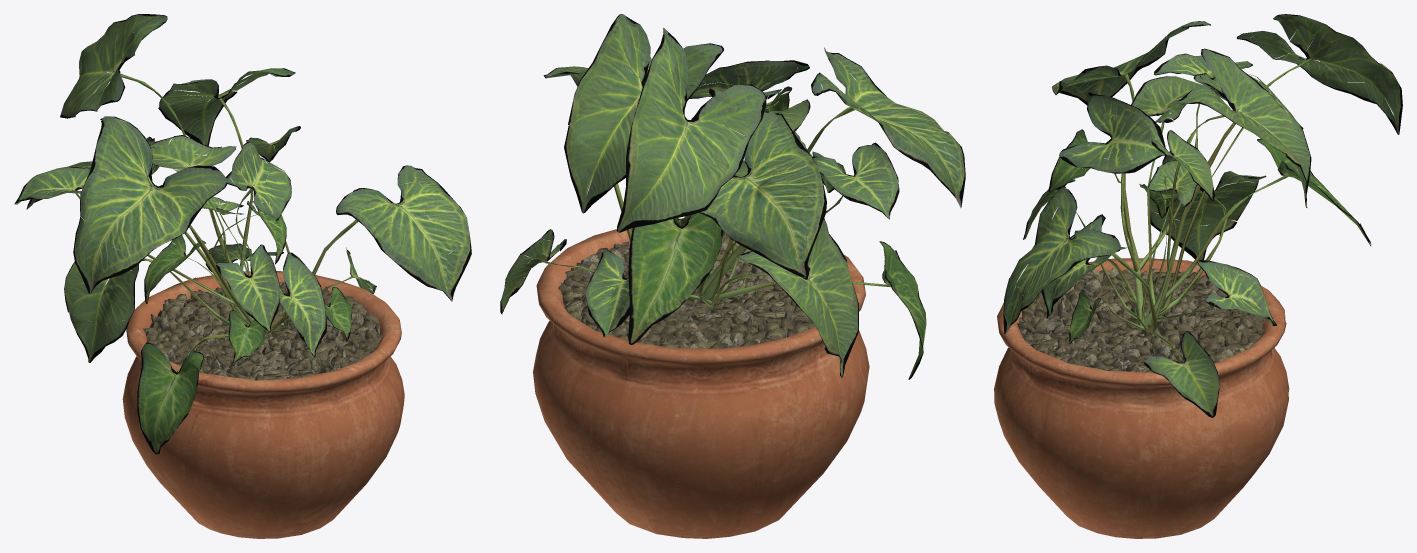
File: potted_plant_02.glb
3 views of the same model, side by side, from view 1: azimuth 30°, elevation 25°; view 2: azimuth 150°, elevation 25°; view 3: azimuth 270°, elevation 25° (orthographic). The views are drawn at different scales.
Parts seen in each view (by area): view 1: potted_plant_02_leaves, potted_plant_02_pot, potted_plant_02_dirt; view 2: potted_plant_02_leaves, potted_plant_02_pot, potted_plant_02_dirt; view 3: potted_plant_02_leaves, potted_plant_02_pot, potted_plant_02_dirt.
Part boxes in pixels (<box>): potted_plant_02_leaves: <box>14,14,471,454</box>; potted_plant_02_pot: <box>122,271,404,538</box>; potted_plant_02_dirt: <box>143,282,382,380</box>; potted_plant_02_leaves: <box>500,14,965,379</box>; potted_plant_02_pot: <box>533,228,869,538</box>; potted_plant_02_dirt: <box>558,232,828,348</box>; potted_plant_02_leaves: <box>1003,14,1402,417</box>; potted_plant_02_pot: <box>994,258,1289,538</box>; potted_plant_02_dirt: <box>1017,268,1267,372</box>.
Bounding box in the file's own units: 0.7008 × 0.8416 × 0.657.
Materials: 2 (2 with a texture image).
